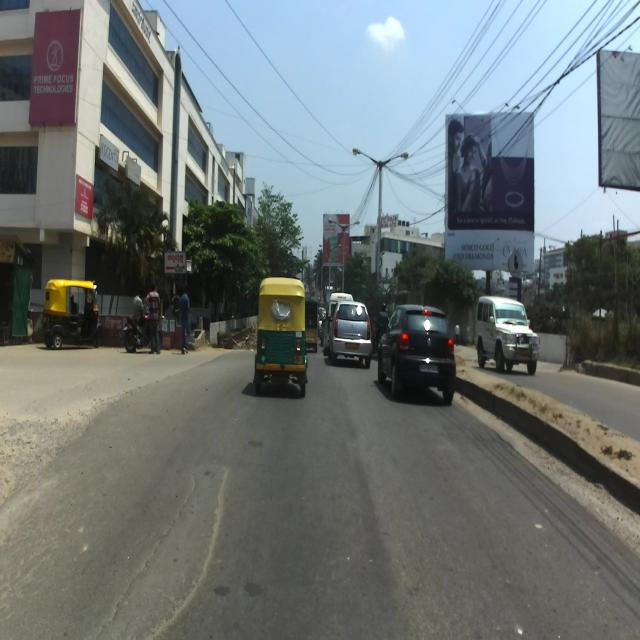autorickshaw: (252, 275, 308, 396), (42, 278, 102, 350)
car: (376, 300, 456, 404), (474, 296, 540, 374), (327, 300, 372, 370)
